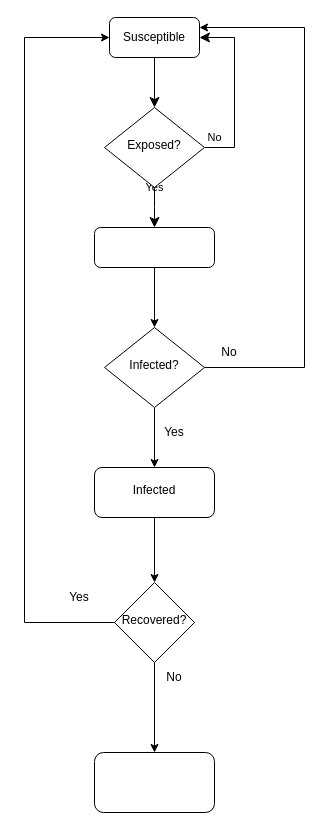
Image size: 330x830. Some labels were removed from this diagram. Here are the shapes that lost their labels. From the top down, the centre of each, then its label:
At pixel 154 247: "Exposed".
At pixel 154 782: "Dead".
